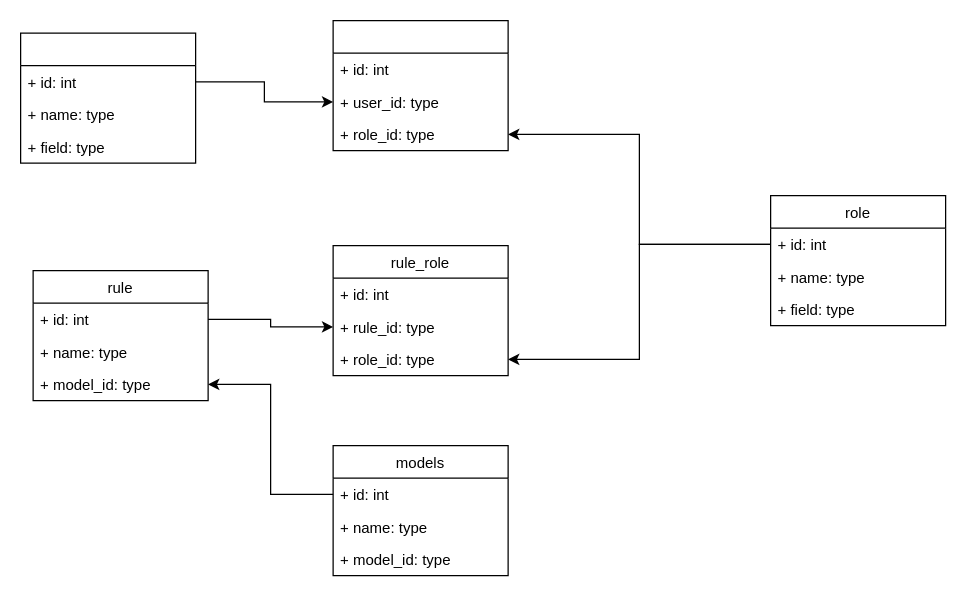
Image size: 966x596. Some labels were removed from this diagram. The shapes that lost their labels are listed below. From the top down, each one's box as (x1, y1, x2, y2) in pixels, then its label:
(19, 32, 196, 163): user
(332, 19, 508, 151): user_role
